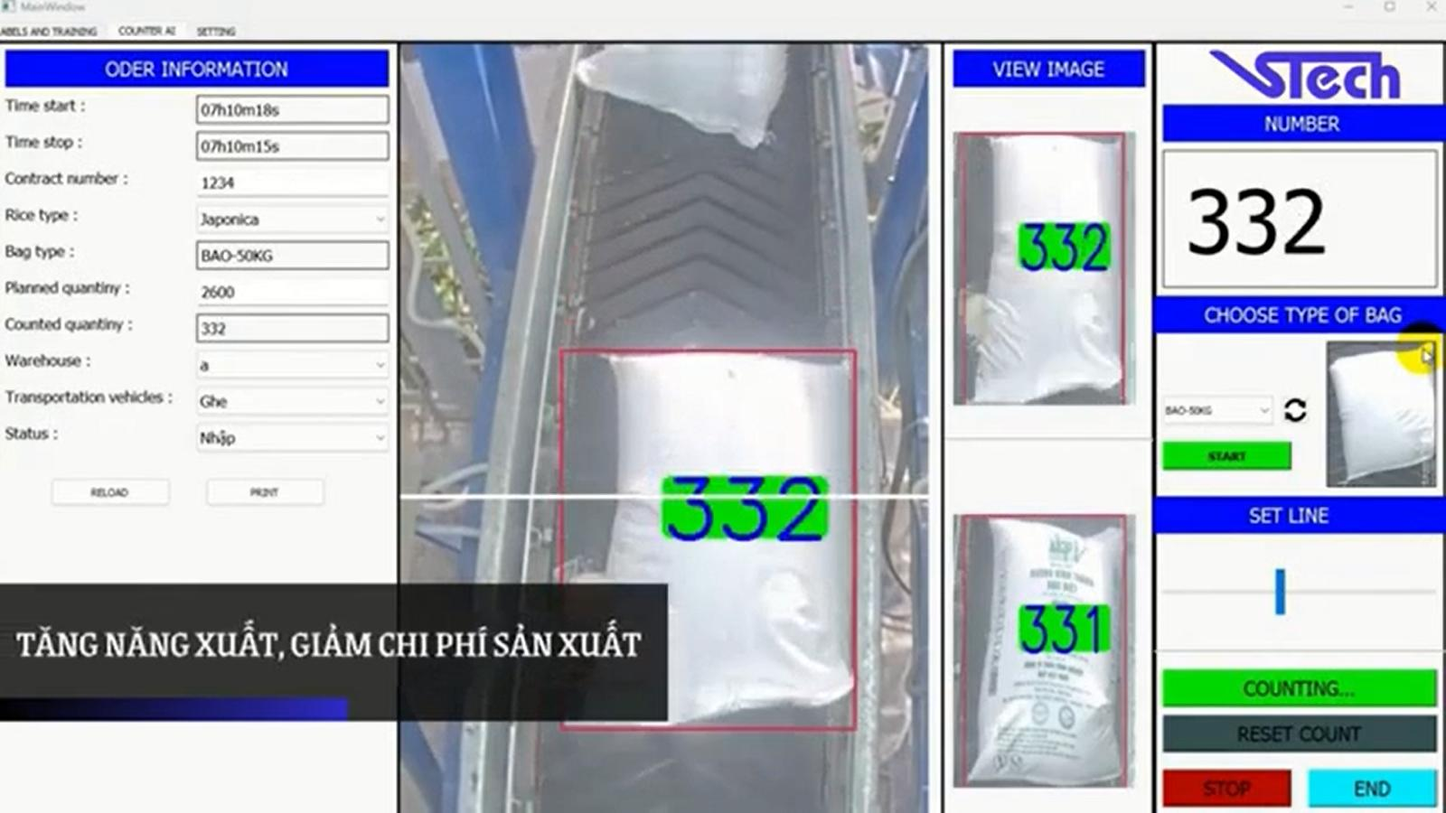rice-bag: (574, 354, 856, 725), (968, 518, 1124, 786), (978, 134, 1128, 402)
